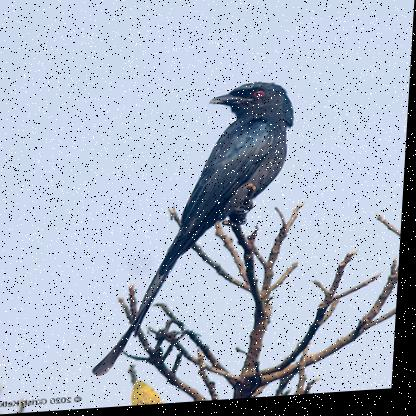Burung: (98, 83, 302, 378)
